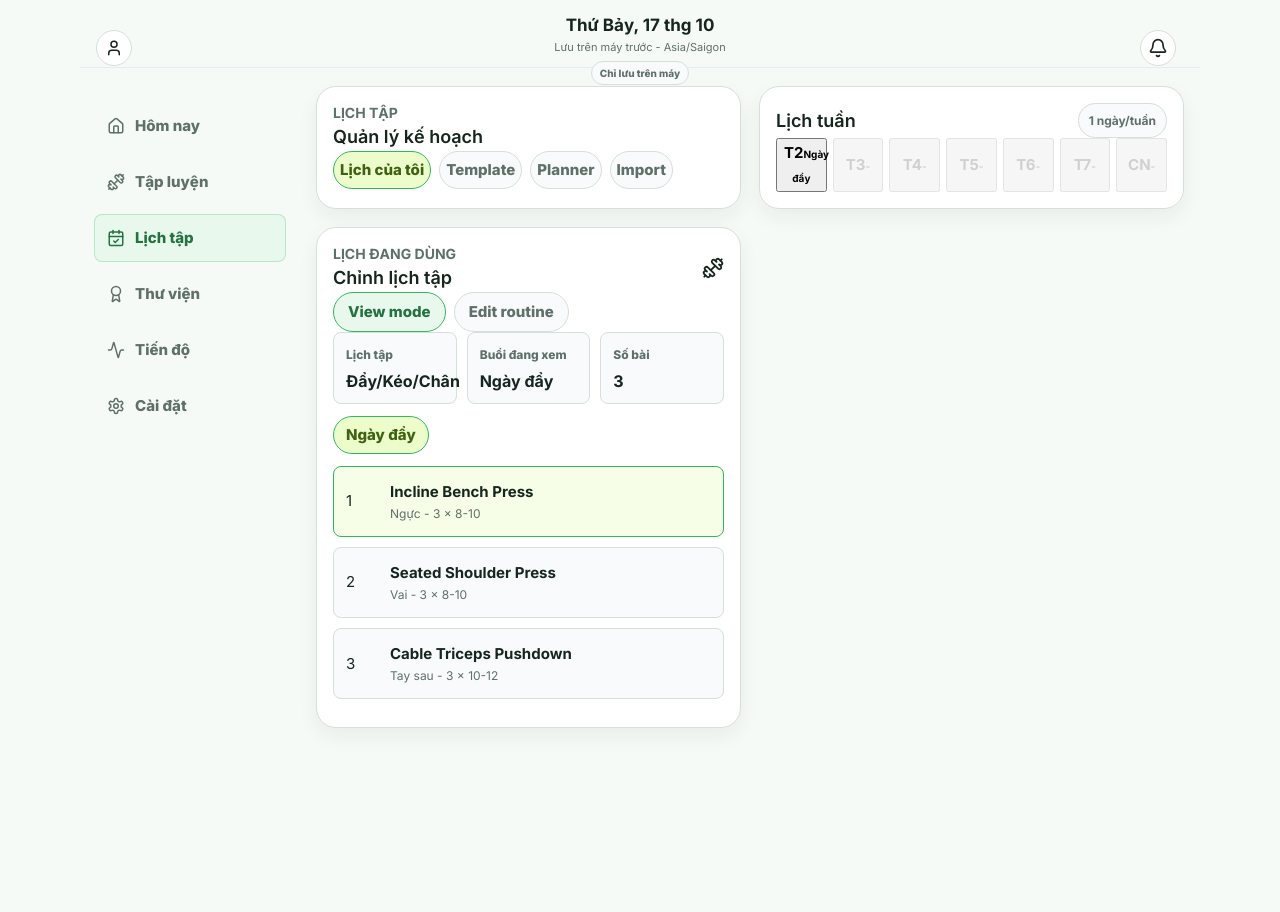
Scenario: Shared catalog in the app (P3) › lists routine templates published in the shared catalog
What coordinates should you click on to do the following:
click the button "Template"
I would click on:
 (481, 170)
Its box is [439,151,522,189].
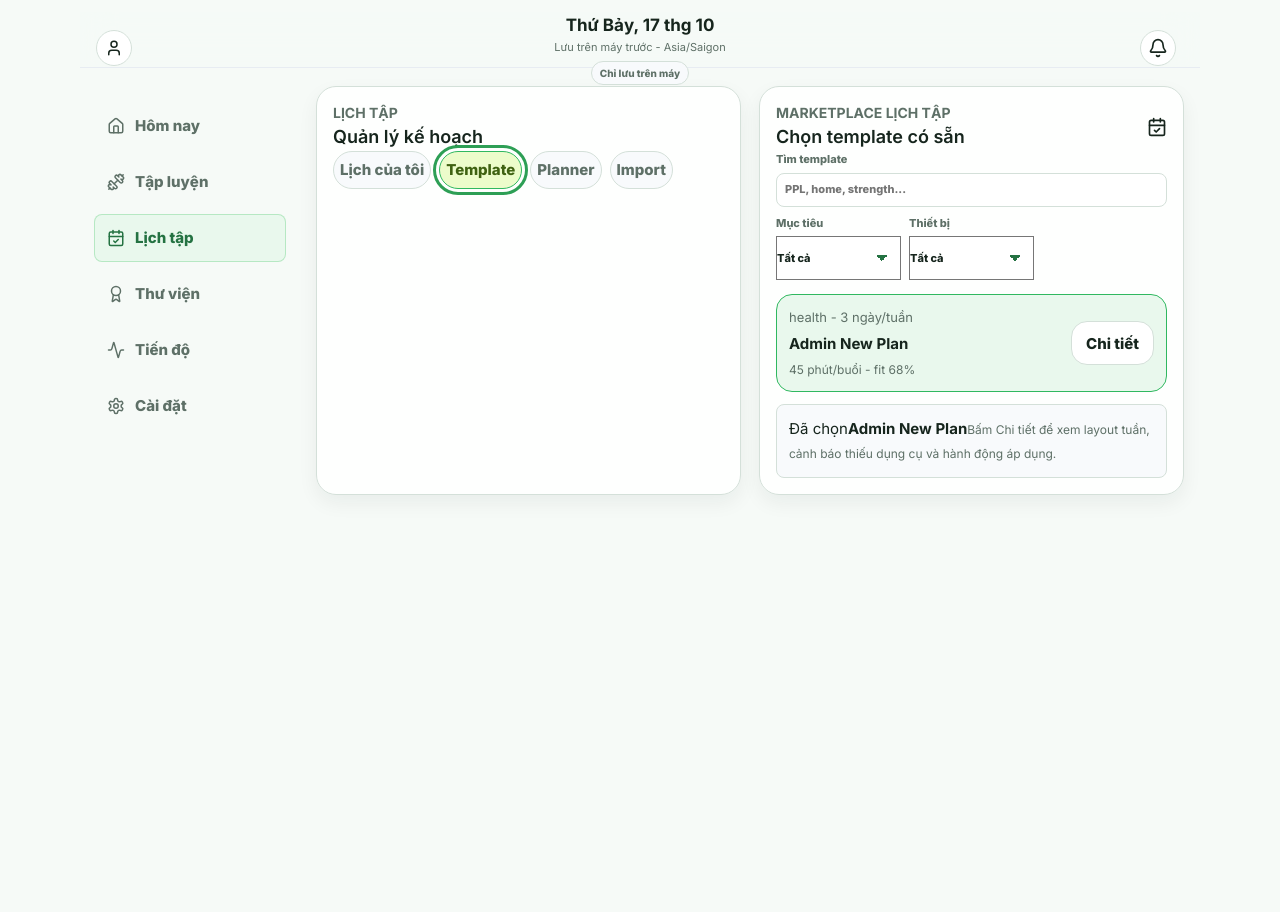
Check: the 1st text "Admin New Plan" is shown, box [789,332,915,356]
